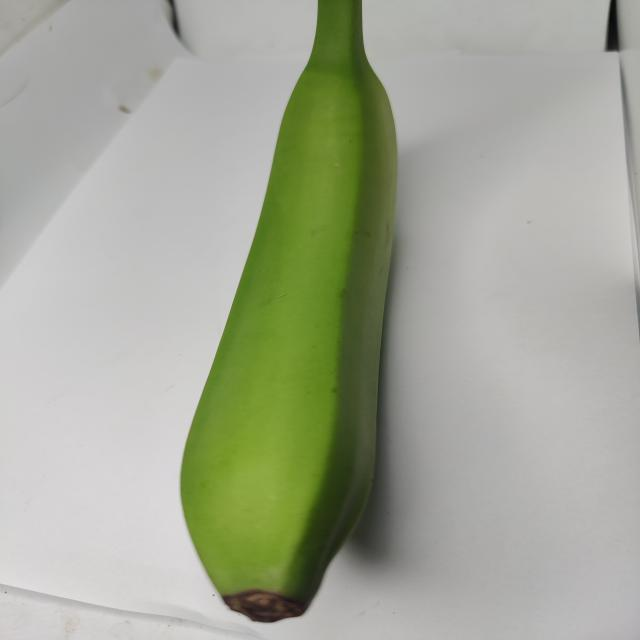raw: (130, 0, 458, 624)
